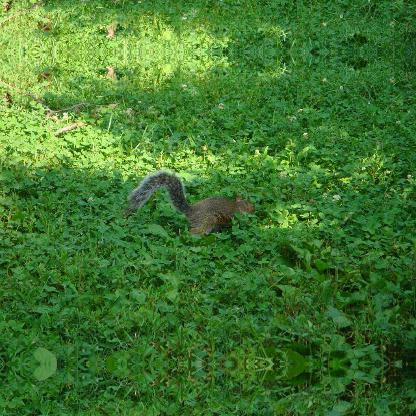Squirrel: (128, 170, 258, 238)
